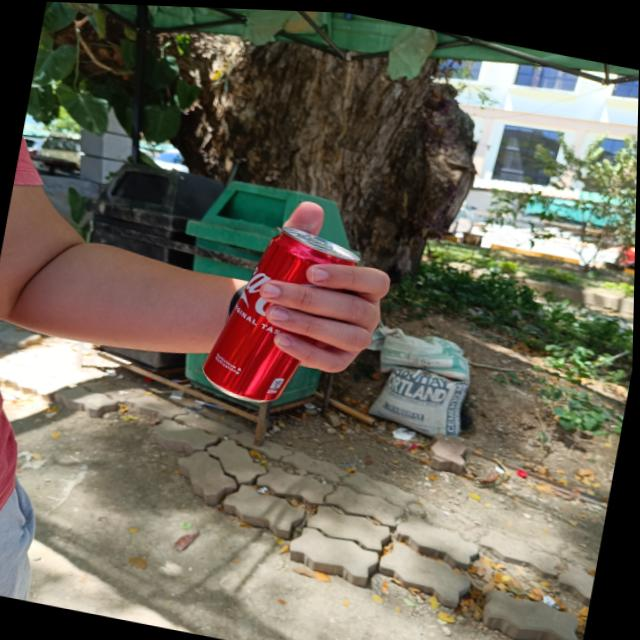coke: (199, 214, 365, 417)
